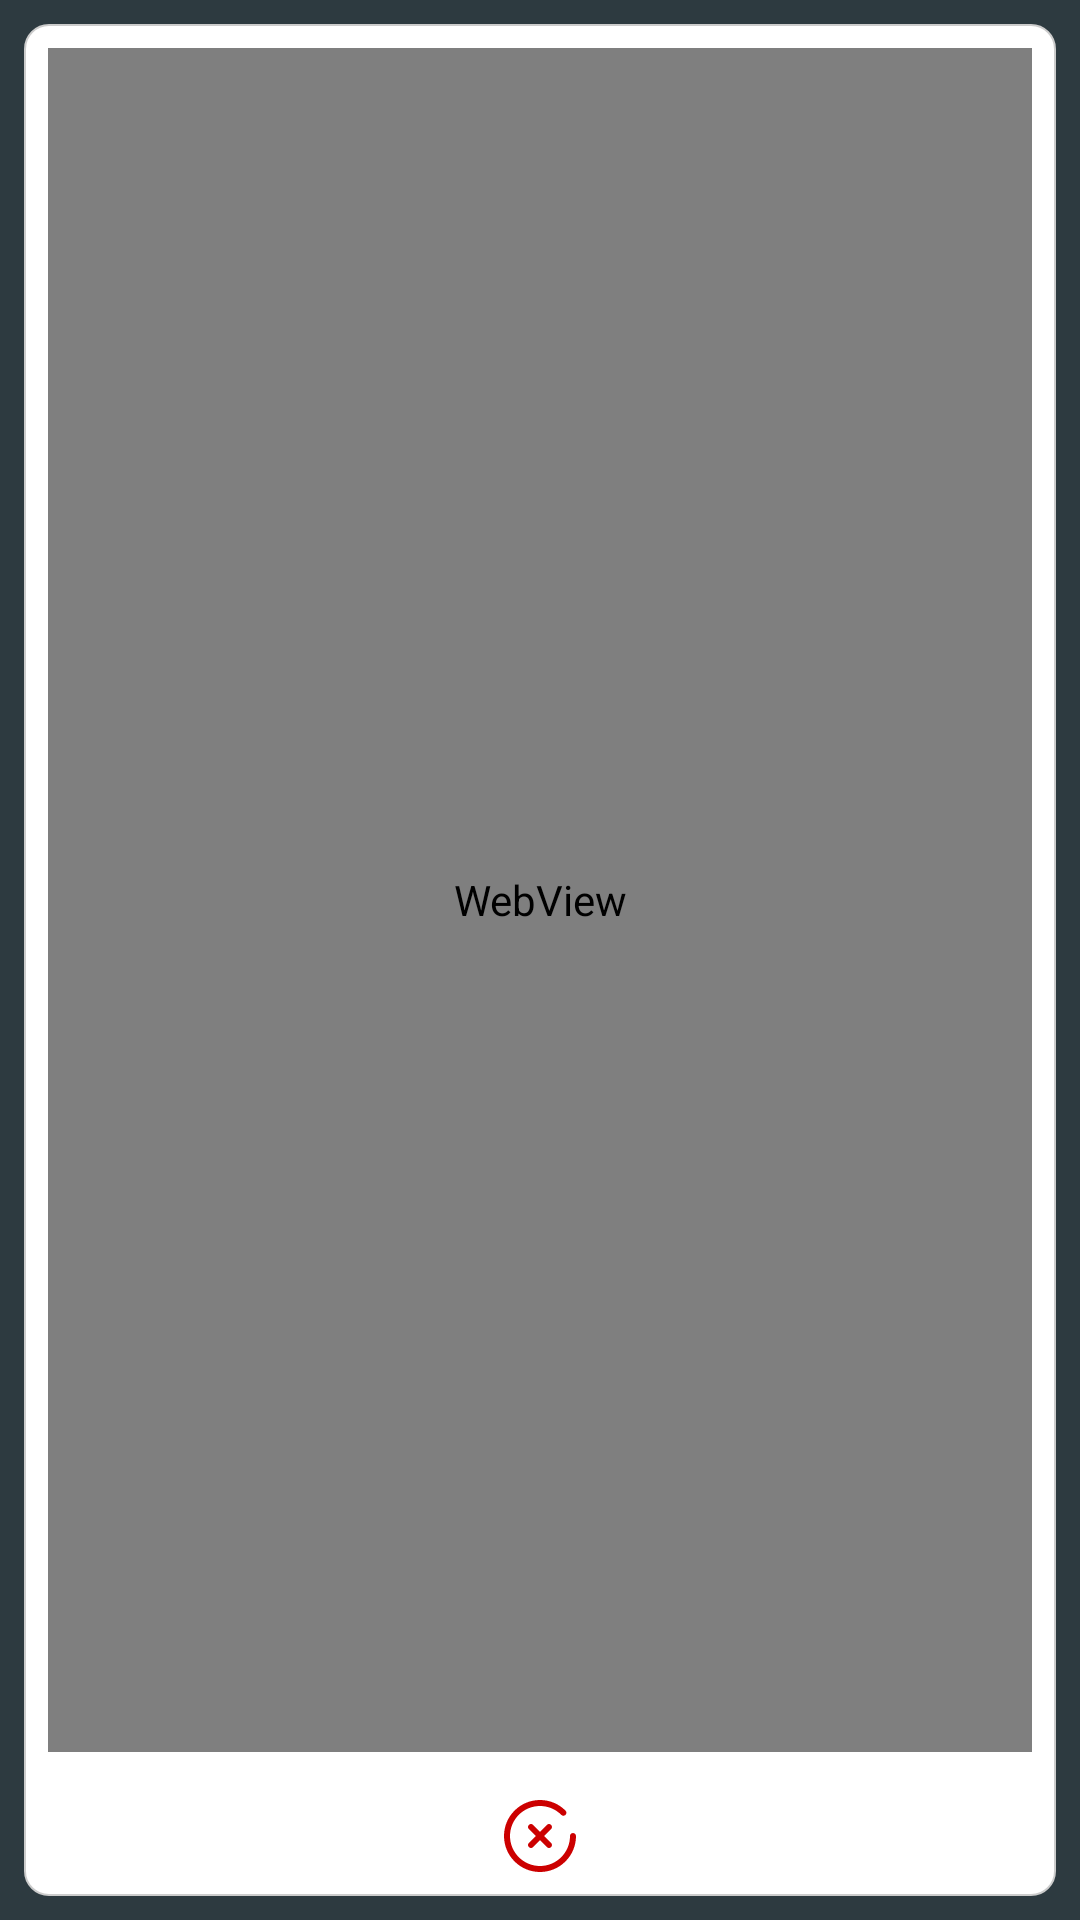

Named icons in this screenshot (1080px x 1920px) and their bounding boxes, region(x1, y1, x2, y2):
close: region(504, 1800, 576, 1872)
